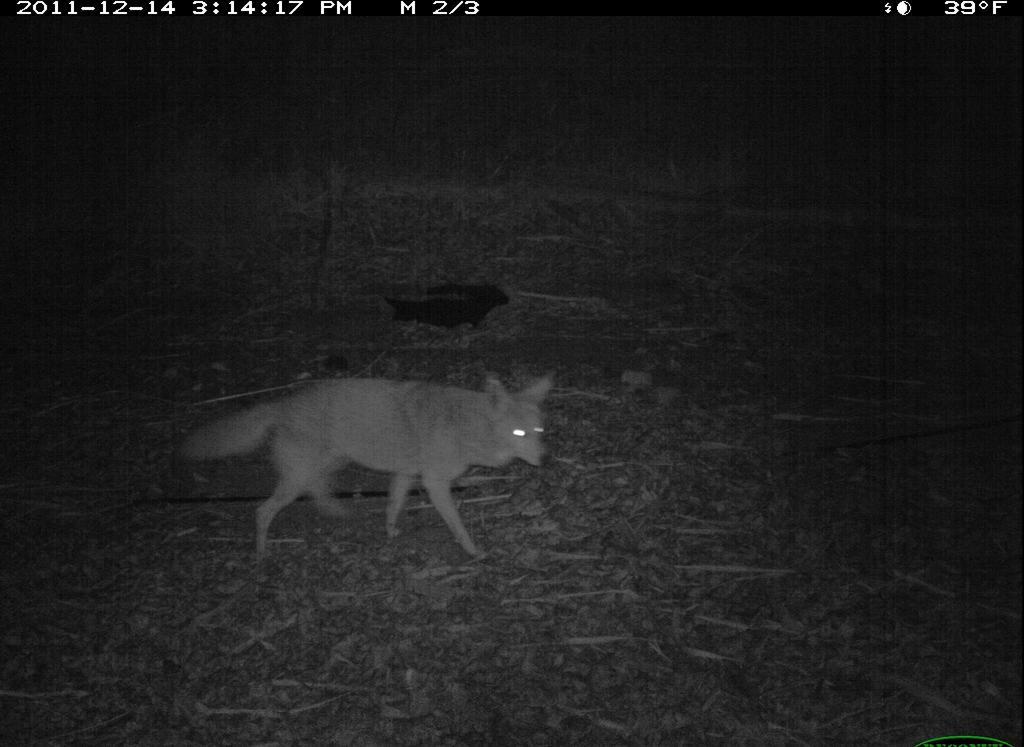coyote: (178, 350, 579, 562)
